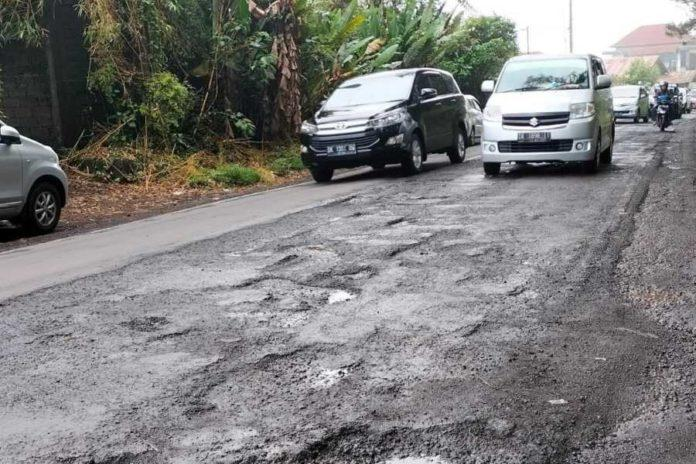Pothole: (280, 412, 596, 464), (169, 338, 359, 411), (346, 167, 470, 266), (226, 243, 381, 318), (53, 306, 198, 342)
